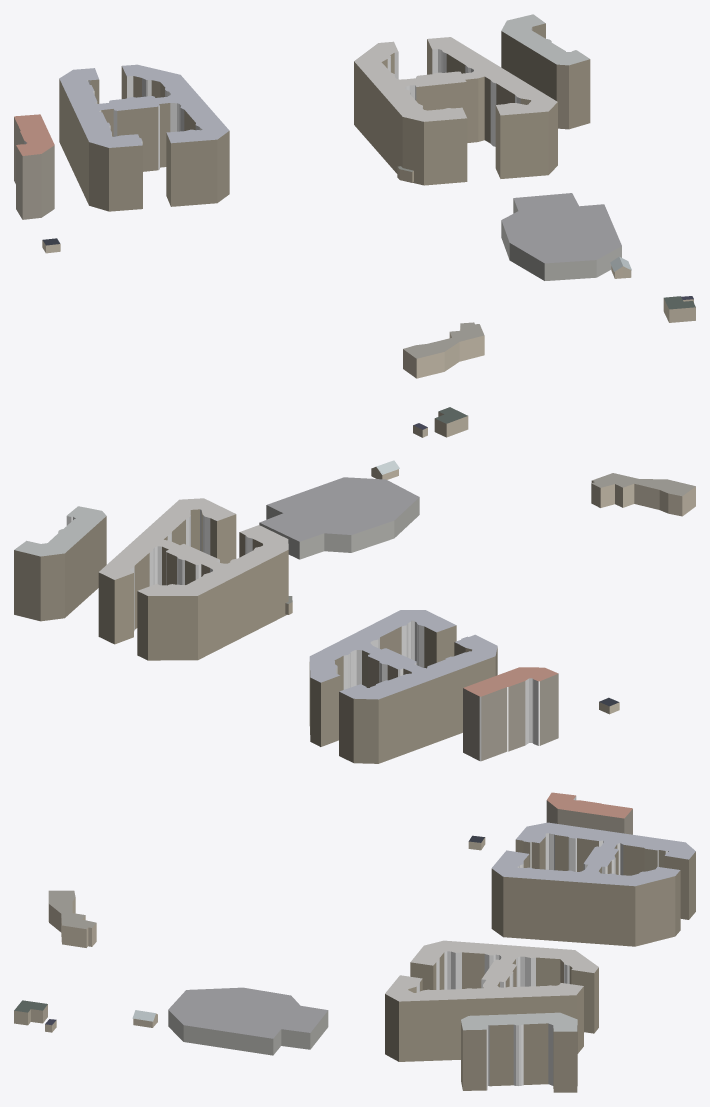
The picture shows the model from 3 angles, top to bottom: view 1: azimuth 30°, elevation 25°; view 2: azimuth 150°, elevation 25°; view 3: azimuth 270°, elevation 25°; orthographic projection. The views are drawn at different scales.
Visible parts, largest first — view 1: tuile; view 2: tuile; view 3: tuile.
Boxes of the visible parts, box(x1,y1,x2,y2) form: tuile: box(14, 14, 695, 378); tuile: box(14, 407, 695, 763); tuile: box(14, 792, 695, 1092).
Size of the model in its own units: 254 by 30.78 by 292.
